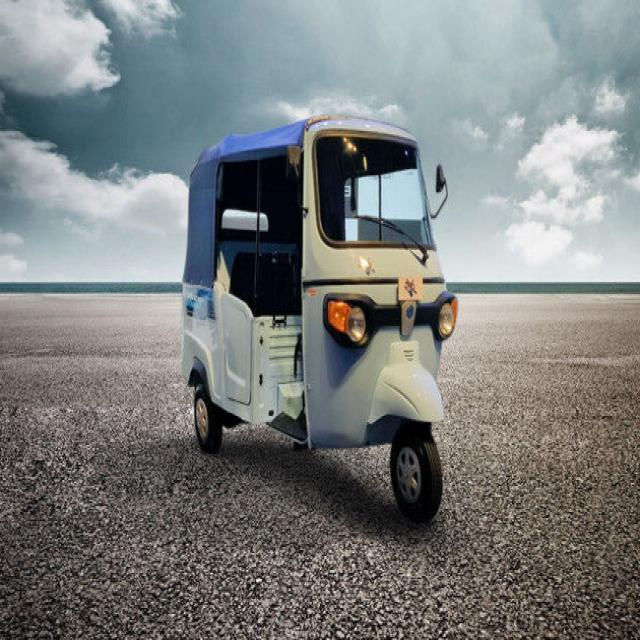autorickshaw: (181, 116, 459, 520)
